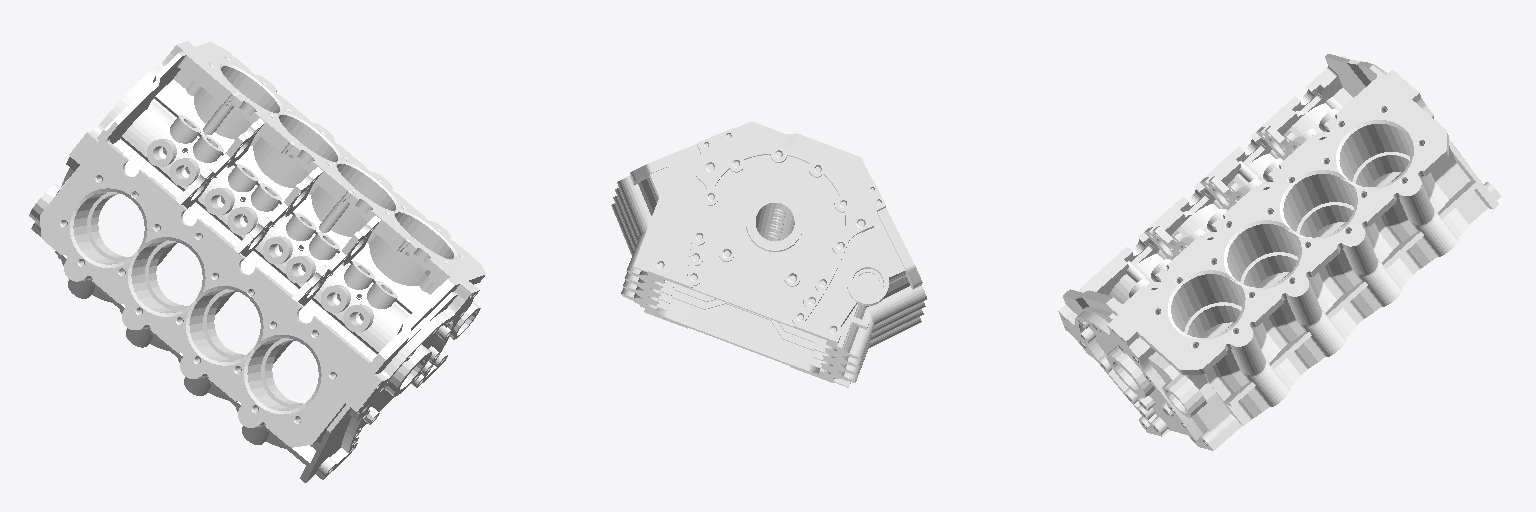
Rendered from engine.obj.
3 renders of one model, left to right at view 1: azimuth 30°, elevation 25°; view 2: azimuth 150°, elevation 25°; view 3: azimuth 270°, elevation 25°, orthographic.
Visible parts, largest first — view 1: 13475_V8_Engine_Block_v1_l1; view 2: 13475_V8_Engine_Block_v1_l1; view 3: 13475_V8_Engine_Block_v1_l1.
Part boxes in pixels (left/top/right/bottom): 13475_V8_Engine_Block_v1_l1: left=29, top=41, right=485, bottom=482; 13475_V8_Engine_Block_v1_l1: left=611, top=121, right=926, bottom=387; 13475_V8_Engine_Block_v1_l1: left=1058, top=54, right=1501, bottom=450.
Size of the model in its own units: 7.48 by 6.83 by 7.79.